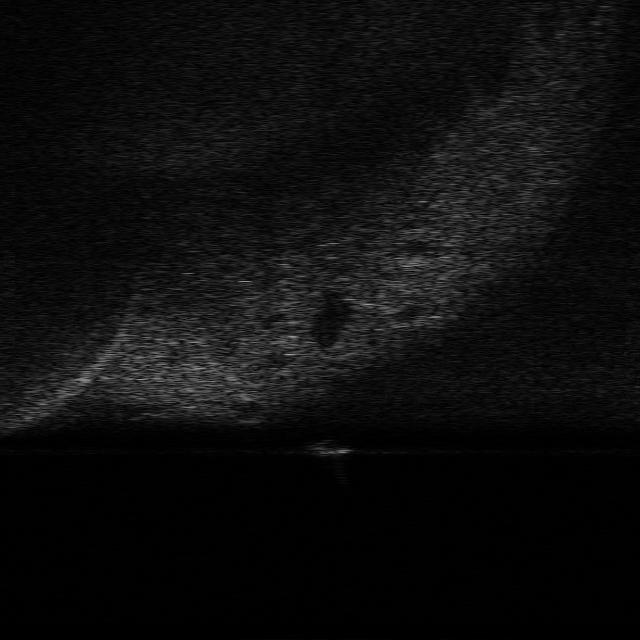cube: (301, 438, 354, 460)
